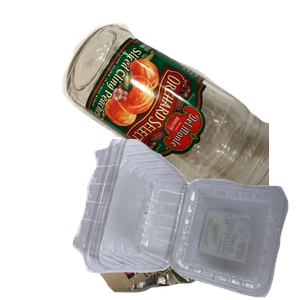glass: (60, 21, 300, 201)
metal: (77, 61, 222, 191)
plastic: (70, 139, 300, 300)
trash: (76, 170, 300, 300)
